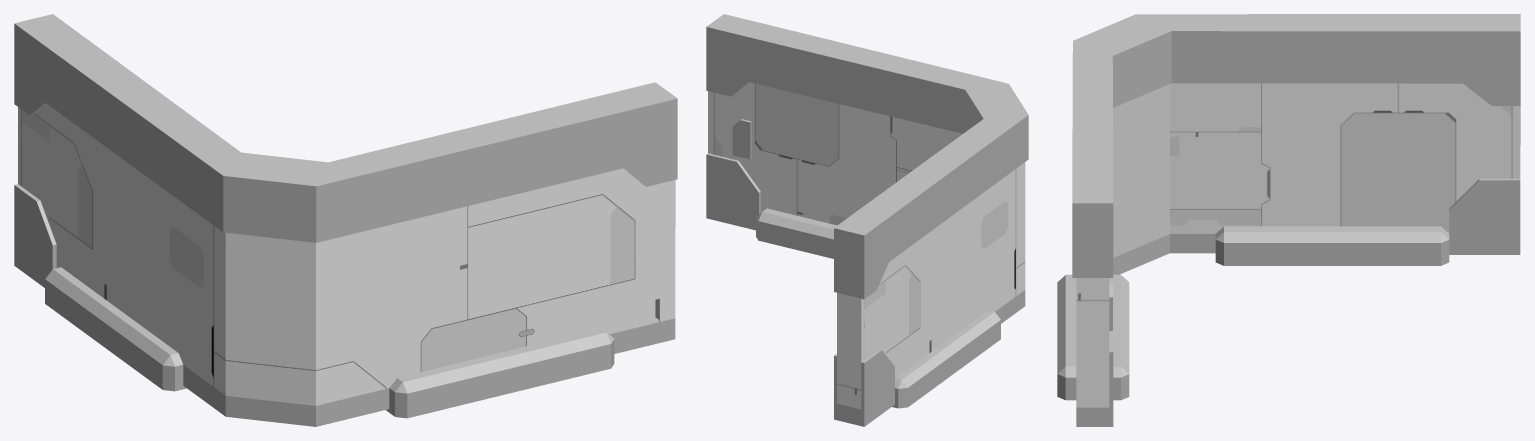
Rendered from SM_Wall_6x6_Corner_1.fbx.
3 views of the same model, side by side, from view 1: azimuth 30°, elevation 25°; view 2: azimuth 150°, elevation 25°; view 3: azimuth 270°, elevation 25° (orthographic). The views are drawn at different scales.
Visible parts, largest first — view 1: SM_Wall_6x6_Corner_1; view 2: SM_Wall_6x6_Corner_1; view 3: SM_Wall_6x6_Corner_1.
Part boxes in pixels (x1,y1,x2,y2): SM_Wall_6x6_Corner_1: (14, 14, 677, 426); SM_Wall_6x6_Corner_1: (706, 14, 1028, 426); SM_Wall_6x6_Corner_1: (1057, 14, 1520, 426).
Bounding box in the file's own units: 561 × 305 × 563.
